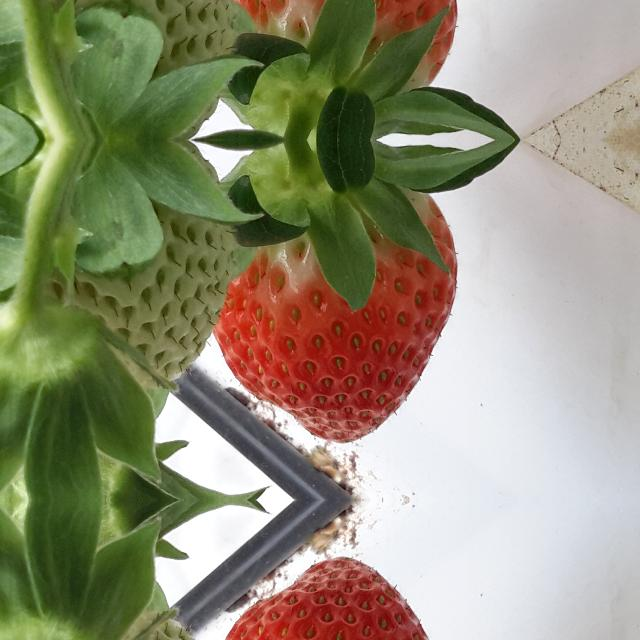Health_100: (212, 187, 458, 443), (212, 0, 458, 93), (212, 557, 458, 640)
